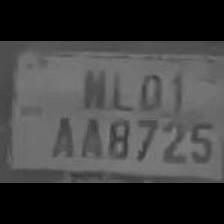0: (132, 66, 164, 111)
1: (165, 64, 189, 112)
2: (156, 114, 186, 166)
5: (187, 113, 215, 165)
7: (131, 112, 158, 166)
8: (103, 112, 131, 162)
A: (47, 109, 77, 161), (76, 110, 102, 160)
L: (108, 64, 132, 110)
N: (76, 62, 108, 114)
